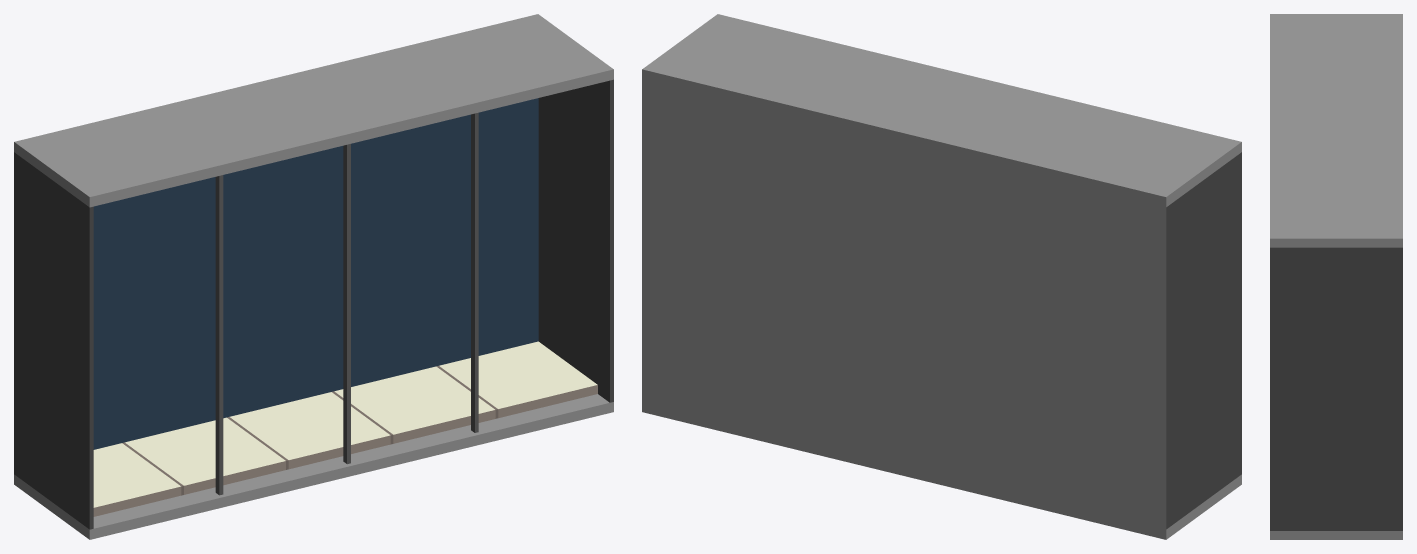
The model's file is Wall_8x5x2_005_L0.fbx.
The picture shows the model from 3 angles, left to right: view 1: azimuth 30°, elevation 25°; view 2: azimuth 150°, elevation 25°; view 3: azimuth 270°, elevation 25°; orthographic projection. The views are drawn at different scales.
Parts seen in each view (by area): view 1: Wall_8x5x2_005_L0; view 2: Wall_8x5x2_005_L0; view 3: Wall_8x5x2_005_L0.
Part boxes in pixels (<box>): Wall_8x5x2_005_L0: <box>14,14,613,539</box>; Wall_8x5x2_005_L0: <box>642,14,1241,539</box>; Wall_8x5x2_005_L0: <box>1270,14,1402,539</box>.
Size of the model in its own units: 8 by 2 by 5.
